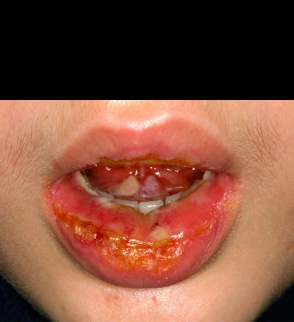SJS-TEN: (16, 94, 256, 322)
